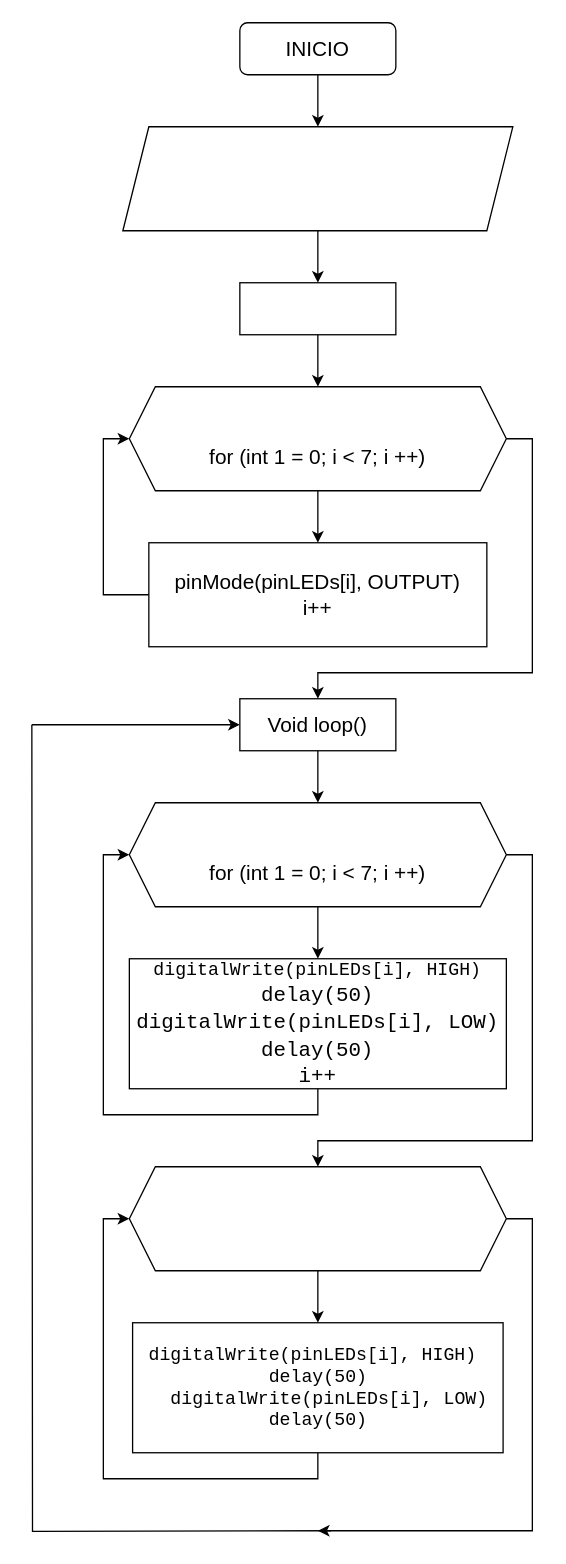
Some shapes in this 566 by 1564 pixel diagram are drawn without their labels. Each missing label, with the centre of its shape:
for (int 1 = 6; i >= 0; i --): the point at 317,1218
VARIABLES: int pinLEDs[7] = {5,6,7,8,9,10,11} int i = 0: the point at 317,178
Void setup():: the point at 317,308
